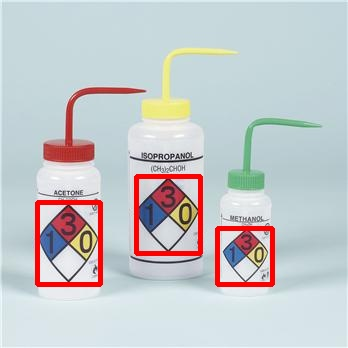nfpa: (37, 202, 100, 284), (136, 176, 200, 253), (217, 228, 272, 284)
